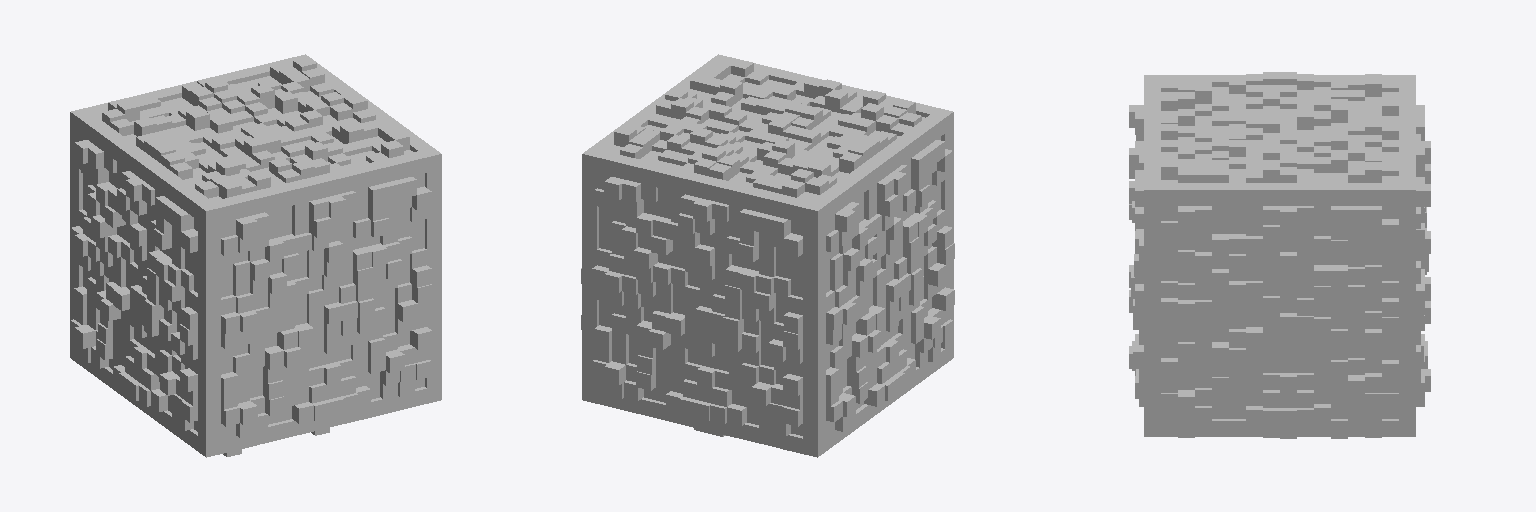
The model's file is uranium_ore.obj.
3 renders of one model, left to right at view 1: azimuth 30°, elevation 25°; view 2: azimuth 150°, elevation 25°; view 3: azimuth 270°, elevation 25°, orthographic.
Visible parts, largest first — view 1: Plane.001_Plane.002; view 2: Plane.001_Plane.002; view 3: Plane.001_Plane.002.
Part boxes in pixels (x1,y1,x2,y2): Plane.001_Plane.002: (70, 54, 441, 457); Plane.001_Plane.002: (581, 54, 954, 457); Plane.001_Plane.002: (1129, 72, 1430, 438).
Size of the model in its own units: 1.11 by 1.11 by 1.11.